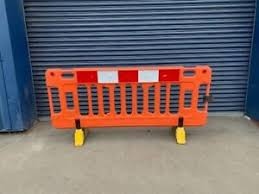barrier: (44, 65, 208, 147)
